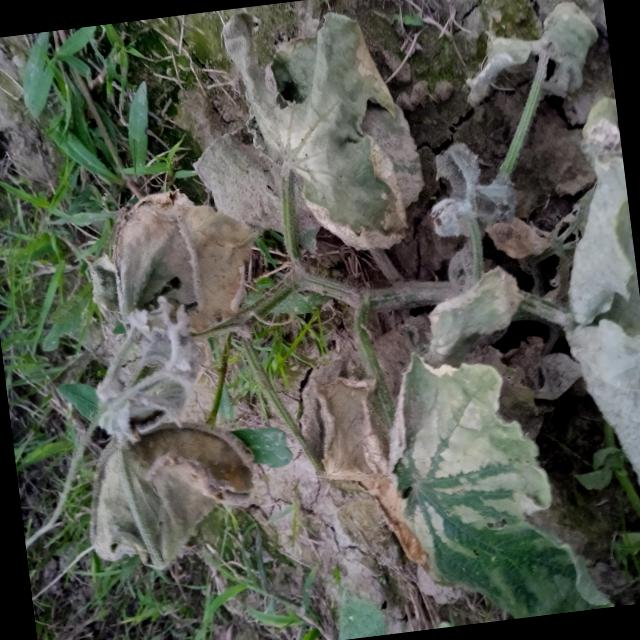cucumber_bacterial: (285, 304, 612, 637), (220, 0, 440, 279), (49, 356, 276, 595), (529, 79, 640, 546), (414, 108, 554, 406), (67, 162, 265, 350)
